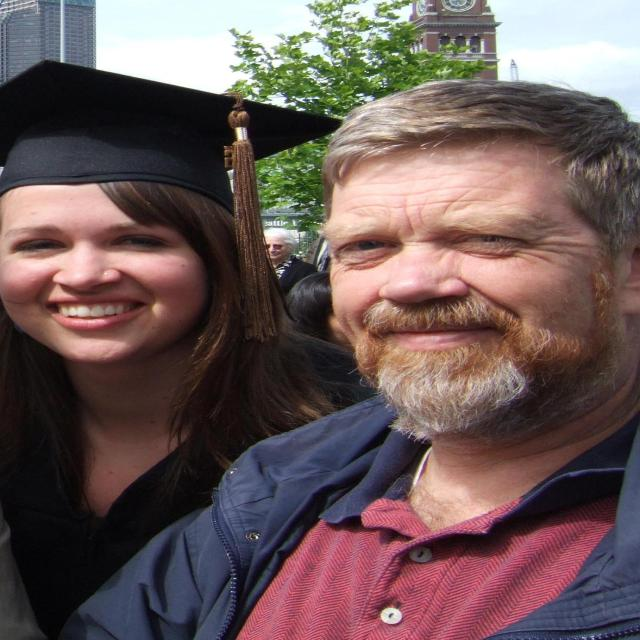no-glass: (336, 227, 539, 266), (3, 229, 182, 260)
